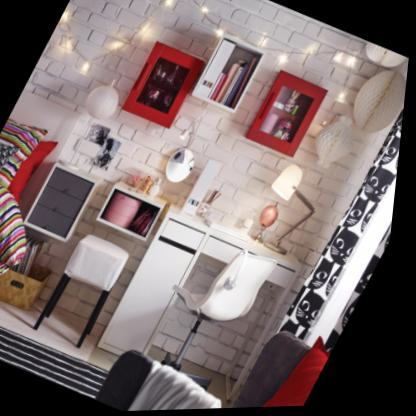Chair: (142, 227, 296, 392)
Sofa: (0, 84, 90, 345)
